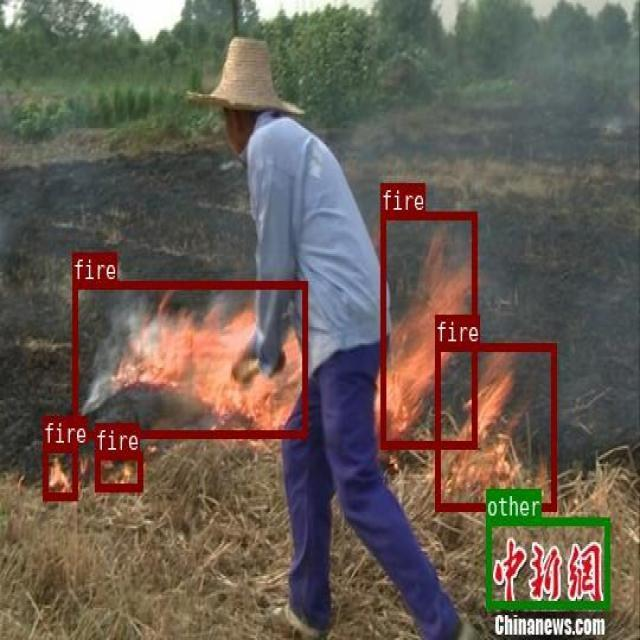fire: (71, 280, 306, 437), (380, 212, 476, 448), (434, 343, 555, 509), (42, 444, 76, 499), (95, 450, 141, 490)
